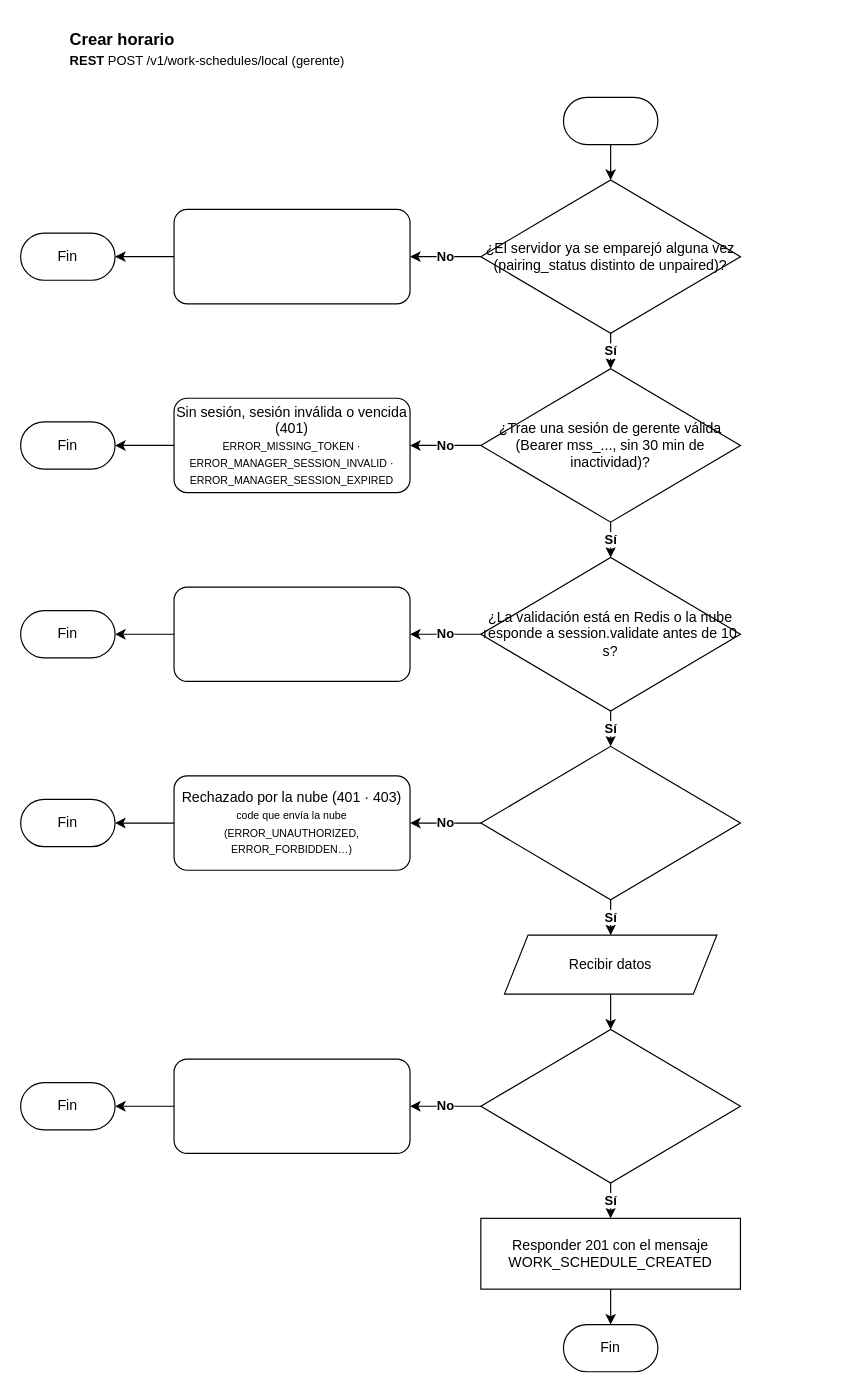
This 844x1392 diagram has some shape labels left out. The shapes that lost their labels are listed below. From the top down, each one's centre as x and y in pixels, then its label:
At point 610,120: "Inicio".
At point 291,256: "Servidor sin emparejar (409) ERROR_SERVER_NOT_PAIRED".
At point 291,633: "La nube no responde (503) ERROR_CLOUD_UNAVAILABLE · ERROR_SERVER_UNLINKED".
At point 610,822: "¿La nube acepta la sesión del gerente con este servidor?".
At point 291,1105: "Datos inválidos (400) ERROR_BAD_REQUEST".
At point 610,1105: "¿Los datos son válidos?".
